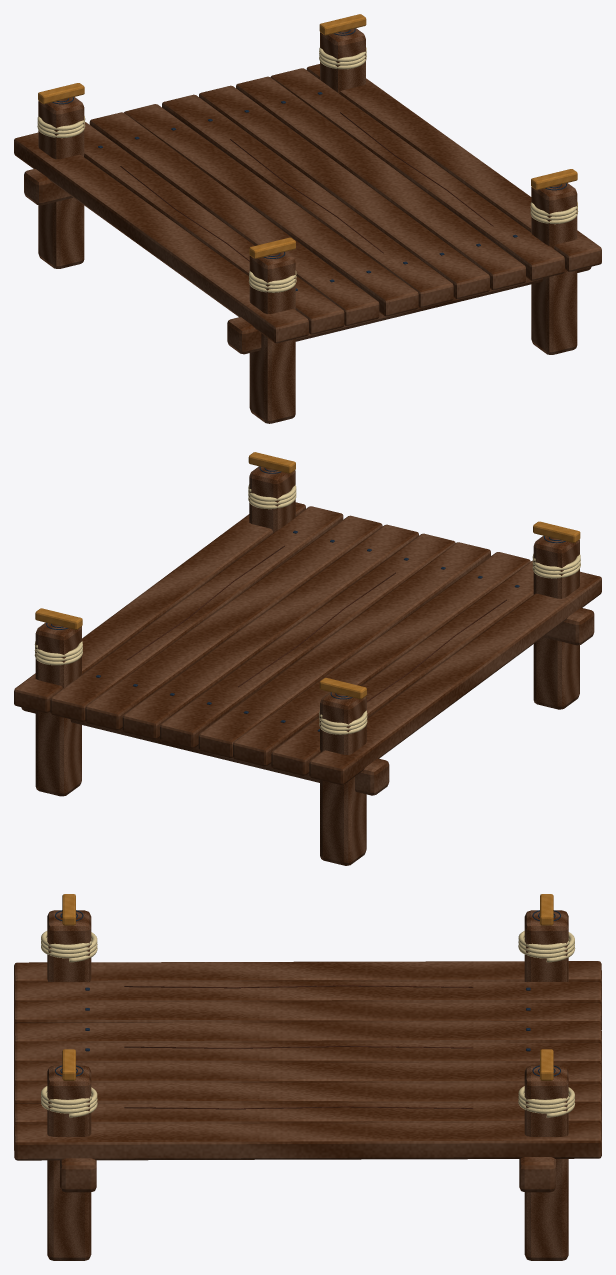
File: FerryPier.fbx
The picture shows the model from 3 angles, top to bottom: view 1: azimuth 30°, elevation 25°; view 2: azimuth 150°, elevation 25°; view 3: azimuth 270°, elevation 25°; orthographic projection. The views are drawn at different scales.
Parts seen in each view (by area): view 1: Weathered deck plank.027, Weathered deck plank.030, Weathered deck plank.032, Weathered deck plank.033, Weathered deck plank.034, Weathered deck plank.031, Weathered deck plank.029, Weathered deck plank.035, Weathered deck plank.028, Pier piling.012, Pier piling.014, Pier piling.013 (+11 smaller); view 2: Weathered deck plank.027, Weathered deck plank.033, Weathered deck plank.032, Weathered deck plank.030, Weathered deck plank.031, Weathered deck plank.034, Weathered deck plank.029, Weathered deck plank.035, Weathered deck plank.028, Pier piling.013, Pier piling.015, Pier piling.012 (+11 smaller); view 3: Weathered deck plank.035, Weathered deck plank.030, Weathered deck plank.029, Weathered deck plank.028, Weathered deck plank.031, Weathered deck plank.032, Weathered deck plank.027, Weathered deck plank.034, Weathered deck plank.033, Pier piling.015, Pier piling.014, Pier piling.013 (+10 smaller).
Part boxes in pixels (x1,y1,x2,y2): Weathered deck plank.027: (14,132,308,343); Weathered deck plank.030: (124,104,418,316); Weathered deck plank.032: (199,85,489,298); Weathered deck plank.033: (236,76,525,290); Weathered deck plank.034: (270,68,564,280); Weathered deck plank.031: (162,94,453,307); Weathered deck plank.029: (89,112,379,325); Weathered deck plank.035: (306,64,601,271); Weathered deck plank.028: (84,122,344,334); Pier piling.012: (249,251,295,423); Pier piling.014: (531,183,577,354); Pier piling.013: (38,97,84,268); Weathered deck plank.027: (309,571,601,785); Weathered deck plank.033: (85,515,382,730); Weathered deck plank.032: (122,524,418,739); Weathered deck plank.030: (198,542,490,757); Weathered deck plank.031: (160,533,455,748); Weathered deck plank.034: (50,506,343,721); Weathered deck plank.029: (233,552,530,766); Weathered deck plank.035: (14,502,305,712); Weathered deck plank.028: (271,561,533,775); Pier piling.013: (320,692,366,865); Pier piling.015: (35,622,81,796); Pier piling.012: (533,535,579,709); Weathered deck plank.035: (14,1122,601,1160); Weathered deck plank.030: (14,1021,601,1045); Weathered deck plank.029: (14,1001,601,1029); Weathered deck plank.028: (14,982,601,1010); Weathered deck plank.031: (14,1042,601,1068); Weathered deck plank.032: (14,1062,601,1090); Weathered deck plank.027: (14,961,601,984); Weathered deck plank.034: (14,1102,601,1131); Weathered deck plank.033: (14,1082,601,1110); Pier piling.015: (524,1065,568,1260); Pier piling.014: (47,1065,91,1260); Pier piling.013: (524,910,568,981).
Size of the model in its own units: 250 by 117 by 320.
5 materials, 5 textured.
